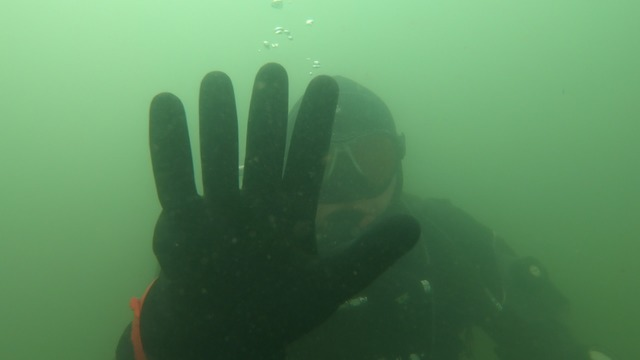Diver: (77, 70, 606, 349)
Hand: (83, 37, 437, 336)
